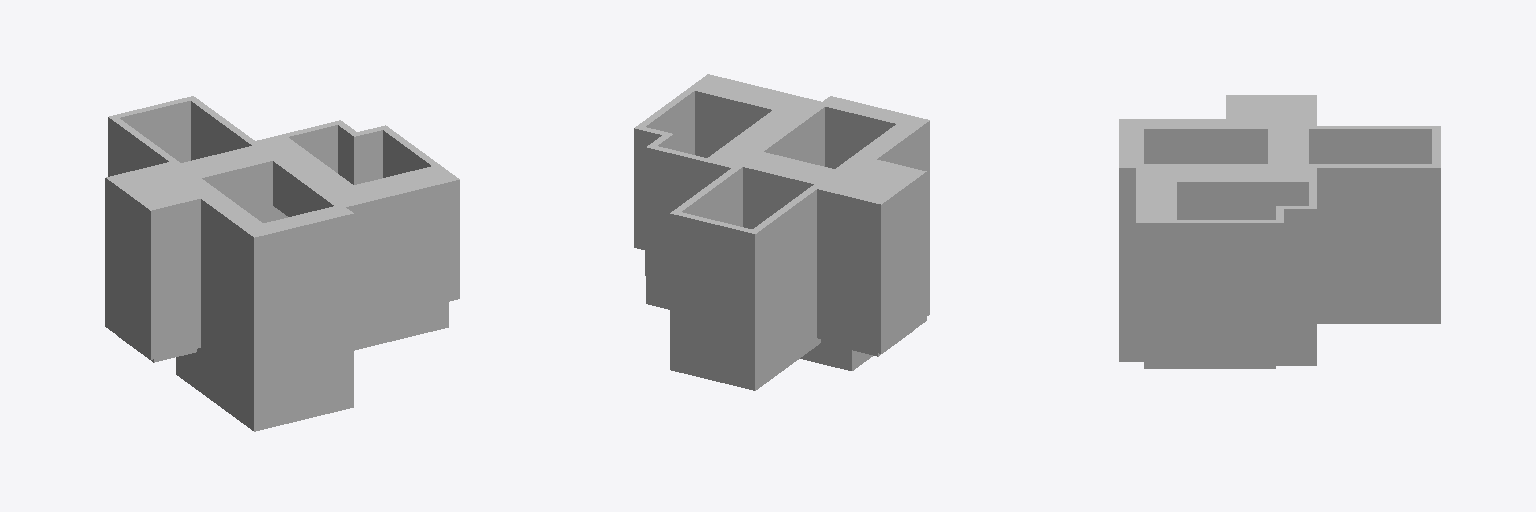
Rendered from dm_agressor.obj.
3 renders of one model, left to right at view 1: azimuth 30°, elevation 25°; view 2: azimuth 150°, elevation 25°; view 3: azimuth 270°, elevation 25°, orthographic.
Parts seen in each view (by area): view 1: Walls_Cube.004, Wall_Cube.005, Ceiling_Cube.009, Ceiling.002_Cube.008, UpperStairWall_Cube.002, UpperFloor_Cube.001, Ceiling.001_Cube.007; view 2: Walls_Cube.004, Wall_Cube.005, Ceiling_Cube.009, Ceiling.001_Cube.007, Ceiling.002_Cube.008, Cube_Cube.003; view 3: Walls_Cube.004, Wall_Cube.005, Ceiling.002_Cube.008, Ceiling_Cube.009, UpperFloor_Cube.001, Ceiling.001_Cube.007, Cube_Cube.003, UpperStairWall_Cube.002.
Part boxes in pixels (x1,y1,x2,y2): Walls_Cube.004: (105,96,353,431); Wall_Cube.005: (256,120,459,324); Ceiling_Cube.009: (118,139,296,205); Ceiling.002_Cube.008: (273,152,352,216); UpperStairWall_Cube.002: (163,149,307,222); UpperFloor_Cube.001: (354,302,448,350); Ceiling.001_Cube.007: (326,166,447,203); Walls_Cube.004: (670,96,929,383); Wall_Cube.005: (634,74,820,309); Ceiling_Cube.009: (715,148,914,228); Ceiling.001_Cube.007: (695,79,816,157); Ceiling.002_Cube.008: (729,110,808,162); Cube_Cube.003: (670,331,912,390); Walls_Cube.004: (1119,95,1440,361); Wall_Cube.005: (1136,168,1316,365); Ceiling.002_Cube.008: (1177,164,1267,219); Ceiling_Cube.009: (1235,98,1308,177); UpperFloor_Cube.001: (1144,343,1275,368); Ceiling.001_Cube.007: (1144,168,1176,219); Cube_Cube.003: (1317,317,1440,323); UpperStairWall_Cube.002: (1268,113,1275,219).
Bounding box in the file's own units: 37 × 26 × 39.